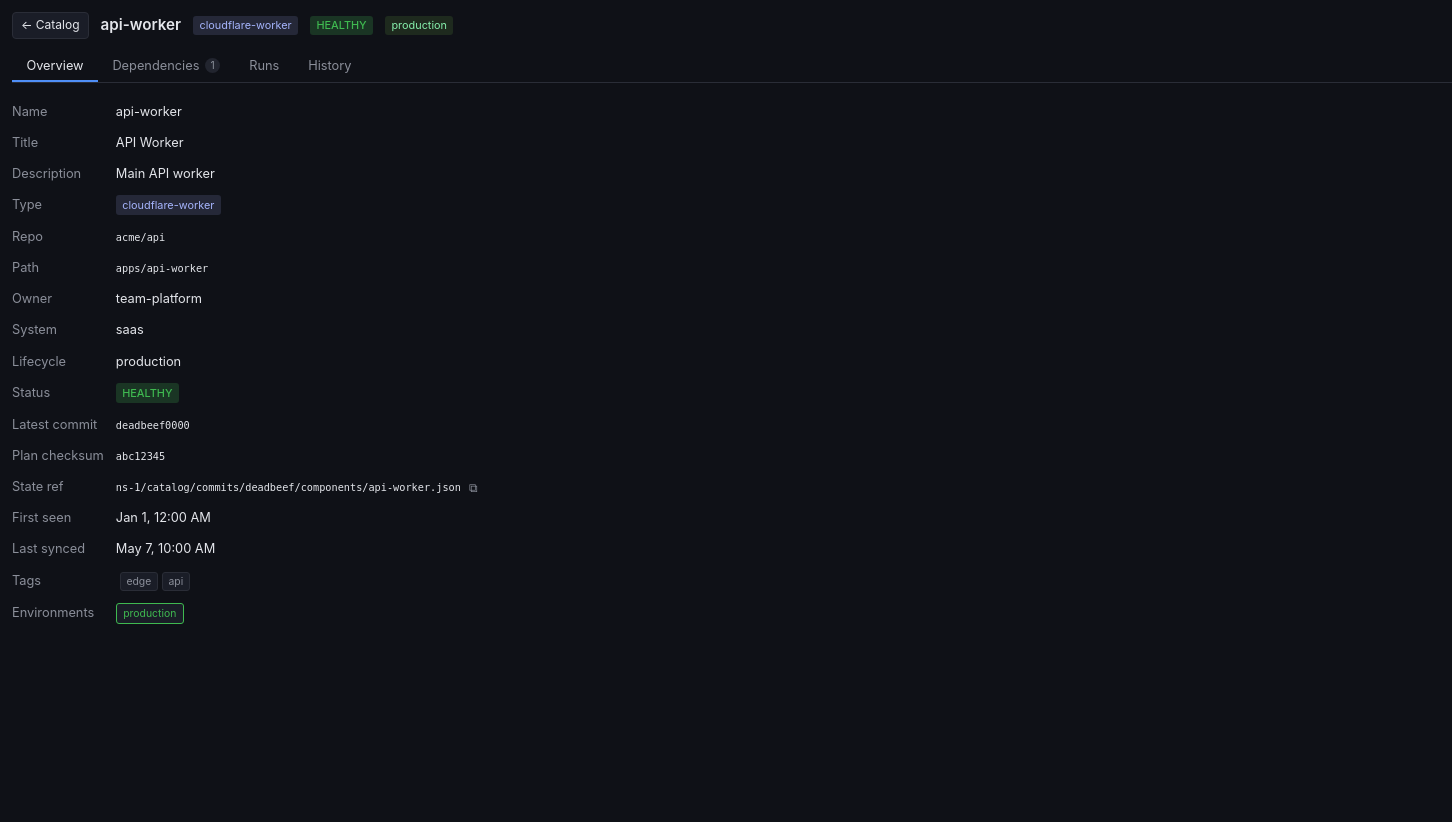
Test: ComponentDetail › renders dependencies tab with outgoing and incoming sections
Click the tab "Dependencies 1".
click(166, 66)  # box [98,51,235,82]
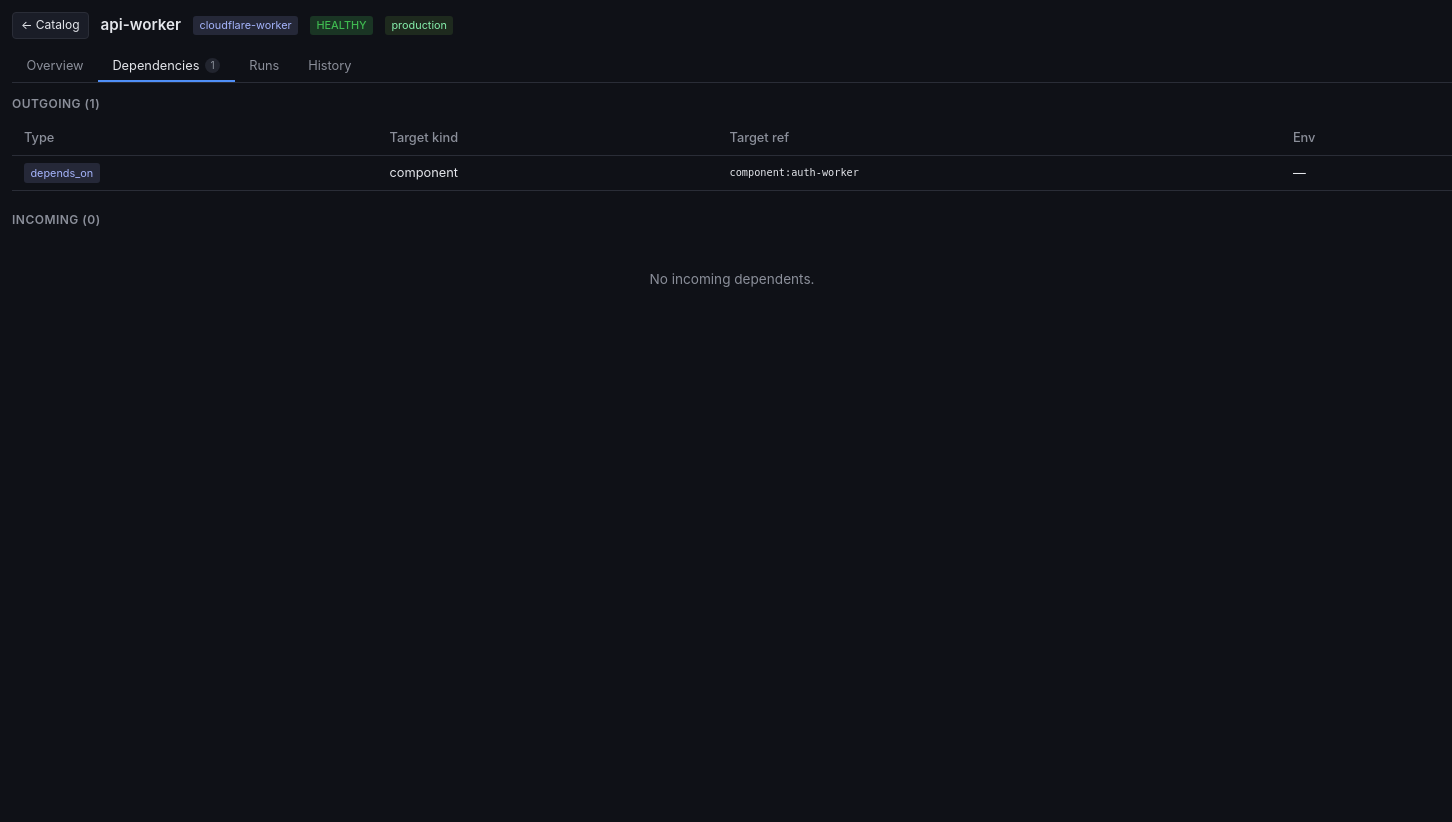
Check: the text "component:auth-worker" is shown, box [718,155,1281,190]
Check: the heading "Incoming (0)" is shown, box [12,212,101,227]
